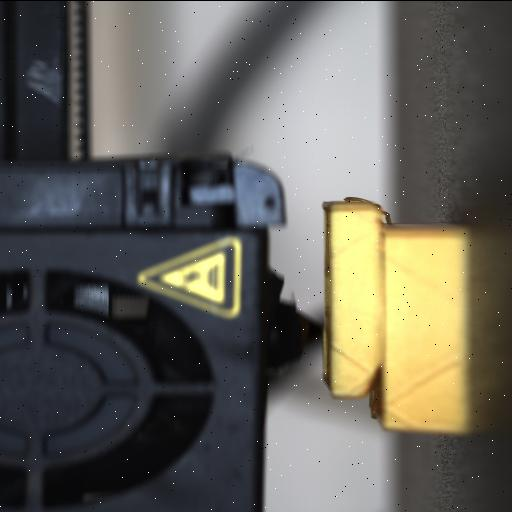layer_shift: (369, 199, 393, 433)
